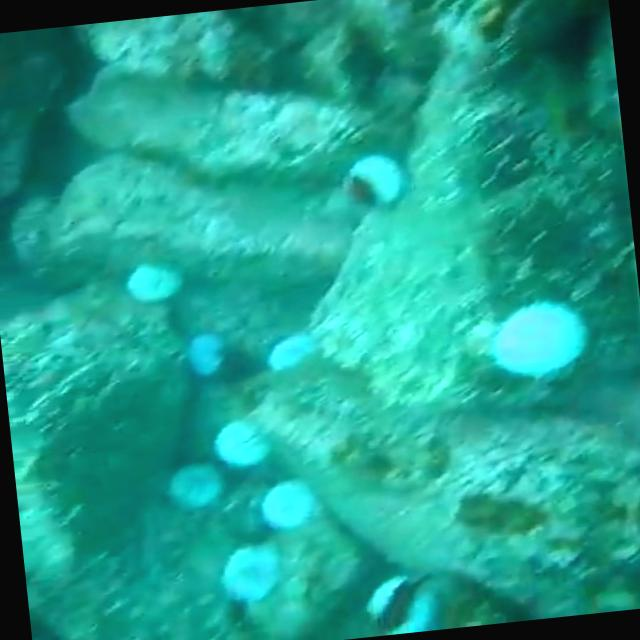Deniz Kestanesi: (482, 290, 590, 384), (215, 538, 288, 604), (334, 148, 410, 211), (211, 413, 270, 472), (260, 475, 318, 532), (124, 253, 184, 306), (163, 461, 220, 514), (181, 322, 232, 380), (260, 326, 322, 372)
